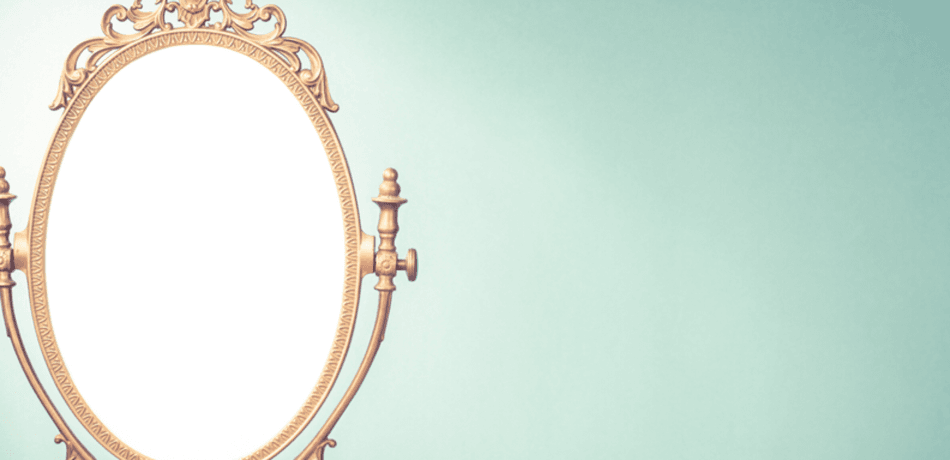Nonrec_Glass: (39, 9, 399, 460)
